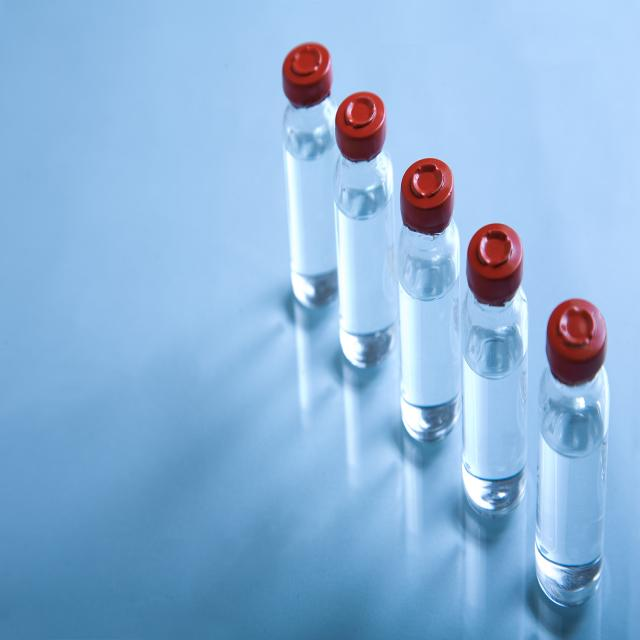vial: (549, 299, 605, 362), (471, 227, 534, 282), (404, 157, 460, 213), (332, 91, 391, 142), (284, 51, 335, 91)
